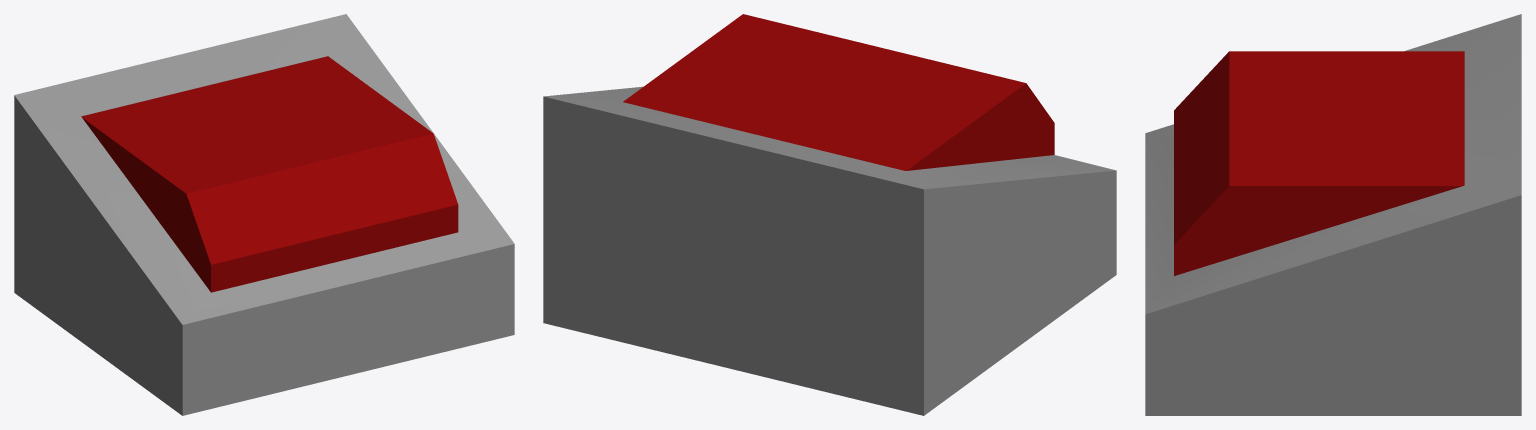
The model's file is M_prop_lamp_square_small.FBX.
The picture shows the model from 3 angles, left to right: view 1: azimuth 30°, elevation 25°; view 2: azimuth 150°, elevation 25°; view 3: azimuth 270°, elevation 25°; orthographic projection. The views are drawn at different scales.
Parts seen in each view (by area): view 1: M_prop_lamp_square; view 2: M_prop_lamp_square; view 3: M_prop_lamp_square.
Part boxes in pixels (left/top/right/bottom): M_prop_lamp_square: left=14, top=14, right=514, bottom=415; M_prop_lamp_square: left=543, top=14, right=1116, bottom=415; M_prop_lamp_square: left=1145, top=14, right=1521, bottom=415.
Bounding box in the file's own units: 44.92 × 39.41 × 25.55.
